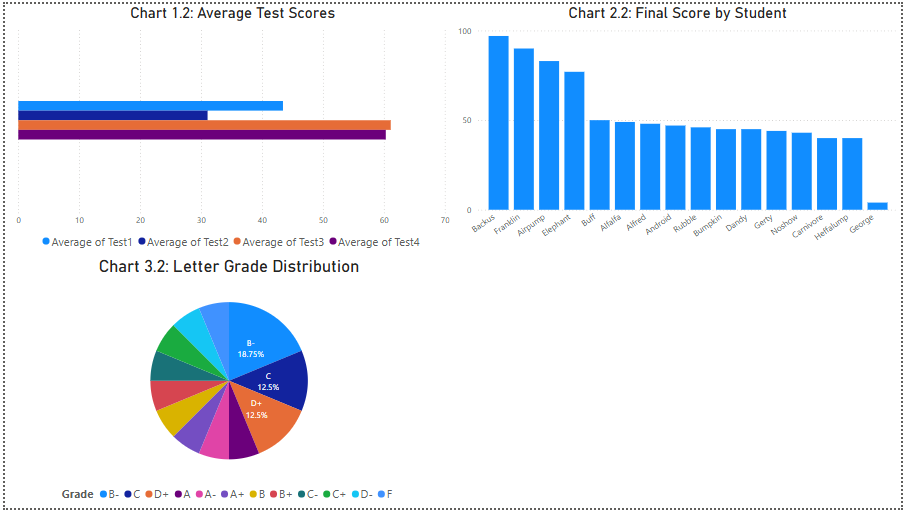

The page's visual inventory and layout, read from the dashboard file:
{"tool":"powerbi","page":{"name":"Basic Visuals","canvas":[1280,720],"ordinal":3},"visuals":[{"type":"clusteredBarChart","title":"Chart 1.2: Average Test Scores","fields":{"Y":["Avg(grades.Test1)","Avg(grades.Test2)","Avg(grades.Test3)","Avg(grades.Test4)"]},"box":[10.6,0,630.3,359.2],"z":0},{"type":"clusteredColumnChart","title":"Chart 2.2: Final Score by Student","fields":{"Y":["Sum(grades.Final)"],"Category":["grades.Last name"]},"box":[640.9,0,639.1,360.9],"z":1000},{"type":"pieChart","title":"Chart 3.2: Letter Grade Distribution","fields":{"Category":["grades.Grade"],"Y":["CountNonNull(grades.Grade)"]},"box":[0,361.4,640,358.6],"z":2000}]}

Visuals, with their boxes in screenshot pixels (x1, y1, x2, y2), scaled from the page's 1280x720 canvas onto the 906x513 screenshot:
"Chart 1.2: Average Test Scores" clusteredBarChart: box(8, 0, 454, 256)
"Chart 2.2: Final Score by Student" clusteredColumnChart: box(454, 0, 905, 257)
"Chart 3.2: Letter Grade Distribution" pieChart: box(0, 257, 453, 512)
